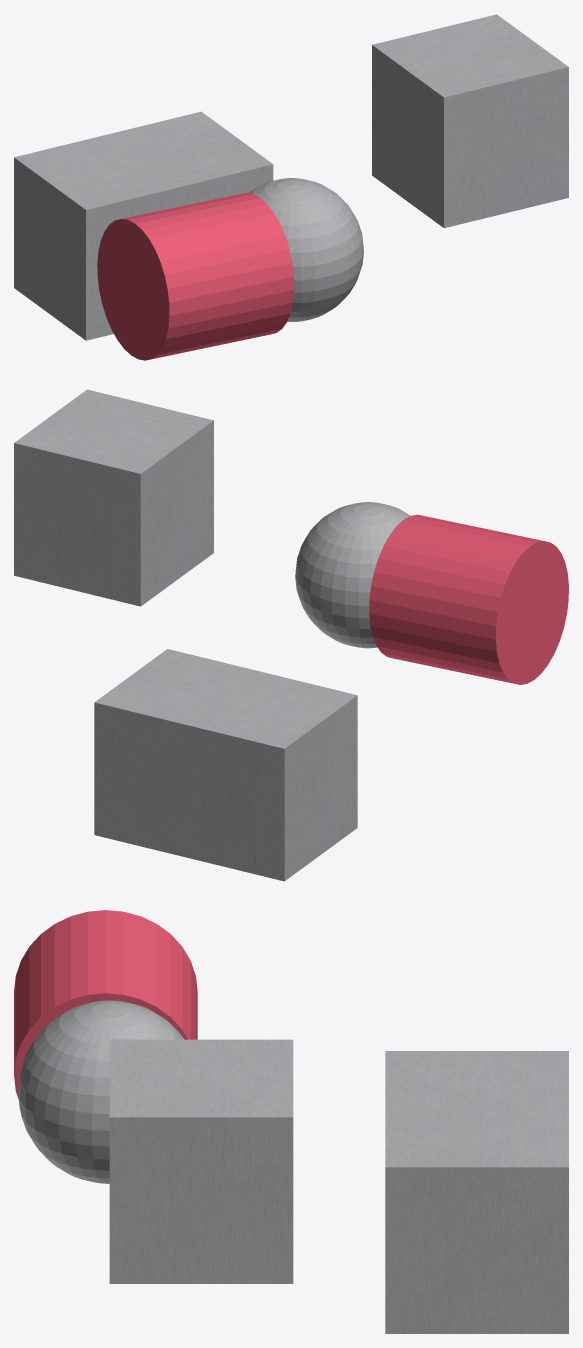
3 renders of one model, top to bottom at view 1: azimuth 30°, elevation 25°; view 2: azimuth 150°, elevation 25°; view 3: azimuth 270°, elevation 25°, orthographic. The views are drawn at different scales.
Visible parts, largest first — view 1: Cube.001, Cube, Cylinder; view 2: Cube, Cube.001, Cylinder; view 3: Cube.001, Cube, Cylinder.
Boxes of the visible parts, x1,y1,x2,y2 form: Cube.001: (249,14,568,321); Cube: (14,111,273,340); Cylinder: (97,192,294,360); Cube: (94,649,357,881); Cube.001: (14,389,410,648); Cylinder: (369,514,568,684); Cube.001: (18,1000,293,1283); Cube: (385,1051,568,1333); Cylinder: (14,910,197,1098).
Size of the model in its own units: 7.03 by 4 by 6.04.
Materials: 2 (1 with a texture image).
